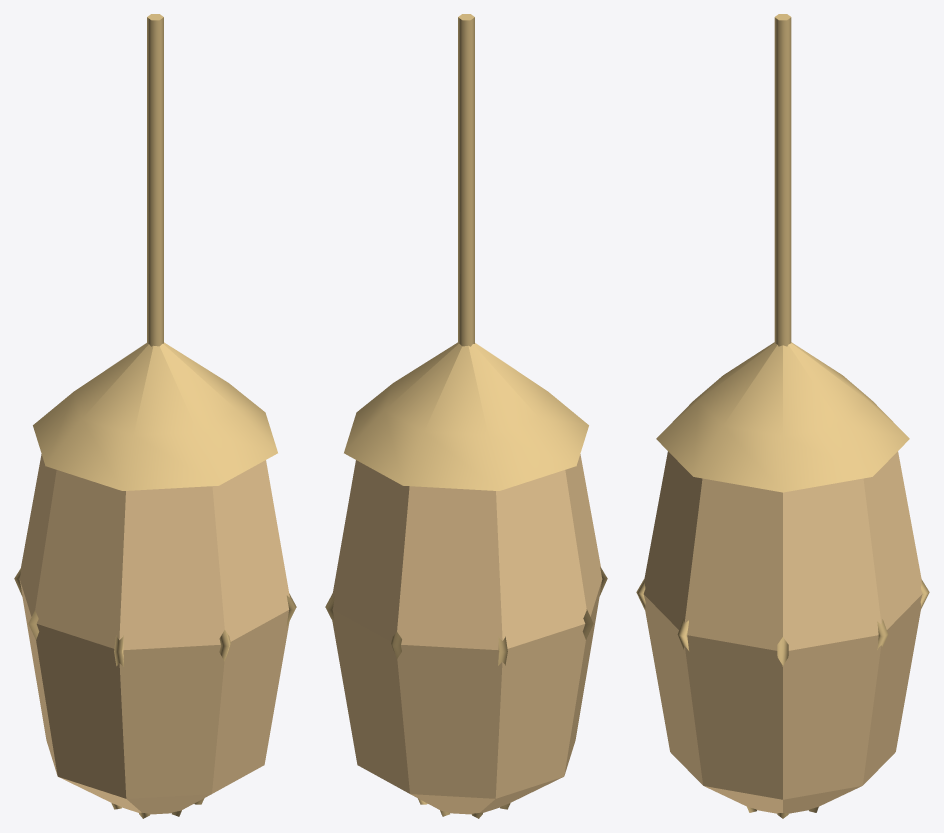
File: SM_Lantern.fbx
The picture shows the model from 3 angles, left to right: view 1: azimuth 30°, elevation 25°; view 2: azimuth 150°, elevation 25°; view 3: azimuth 270°, elevation 25°; orthographic projection.
Visible parts, largest first — view 1: SM_Lantern; view 2: SM_Lantern; view 3: SM_Lantern.
Part boxes in pixels (left/top/right/bottom): SM_Lantern: left=14, top=14, right=296, bottom=818; SM_Lantern: left=325, top=14, right=607, bottom=818; SM_Lantern: left=636, top=14, right=929, bottom=818.
Bounding box in the file's own units: 41.6 × 122 × 41.6.
